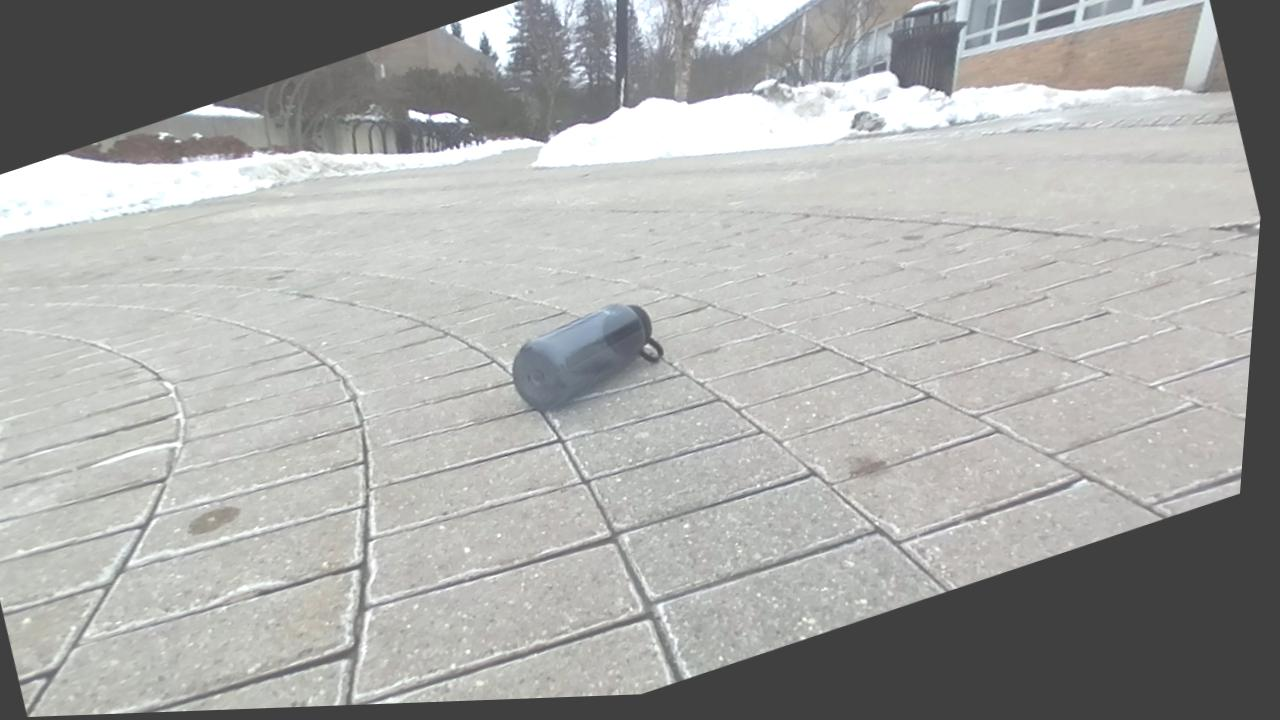bottle: (511, 303, 663, 410)
